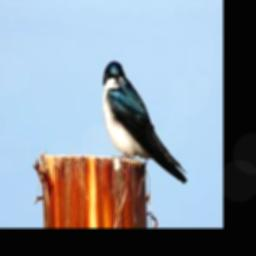Swallow: (101, 59, 188, 185)
